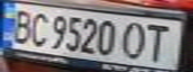0: (96, 17, 121, 56)
2: (78, 15, 100, 55)
5: (63, 14, 84, 53)
9: (45, 11, 69, 51)
B: (3, 7, 39, 45)
C: (24, 9, 51, 47)
O: (118, 19, 154, 61)
T: (139, 20, 178, 62)
